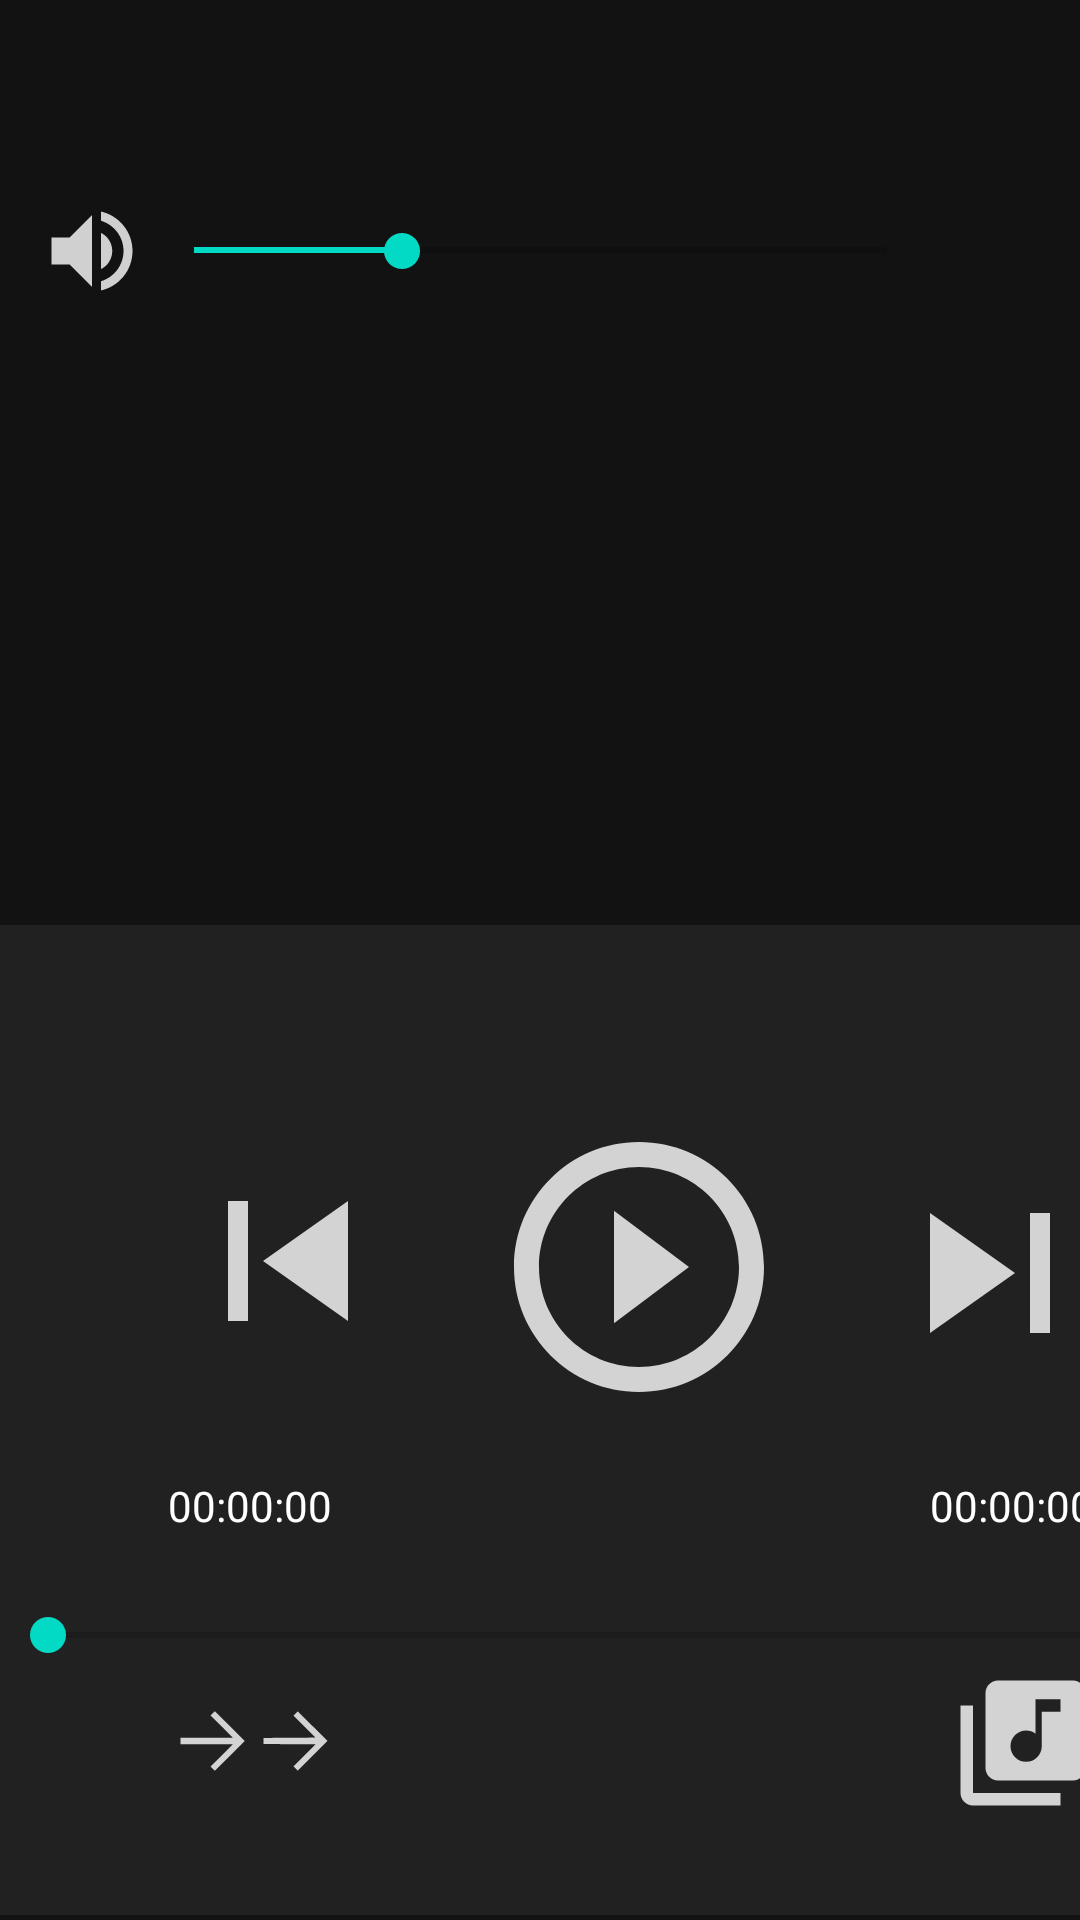

Locate icon controls on the screen. Image size 1080x1920, boxes as bbox=[x1, y1, x2, y2].
previous: bbox=[228, 1201, 348, 1321]
volume: bbox=[51, 211, 133, 291]
